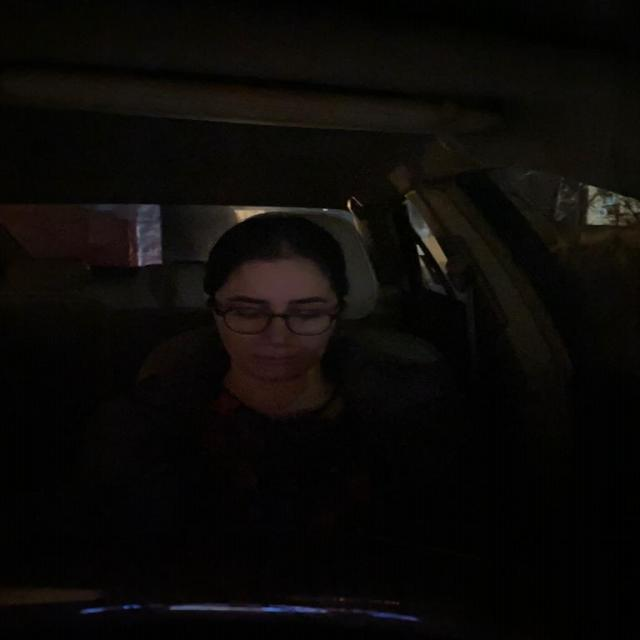drowsy: (194, 207, 359, 390)
